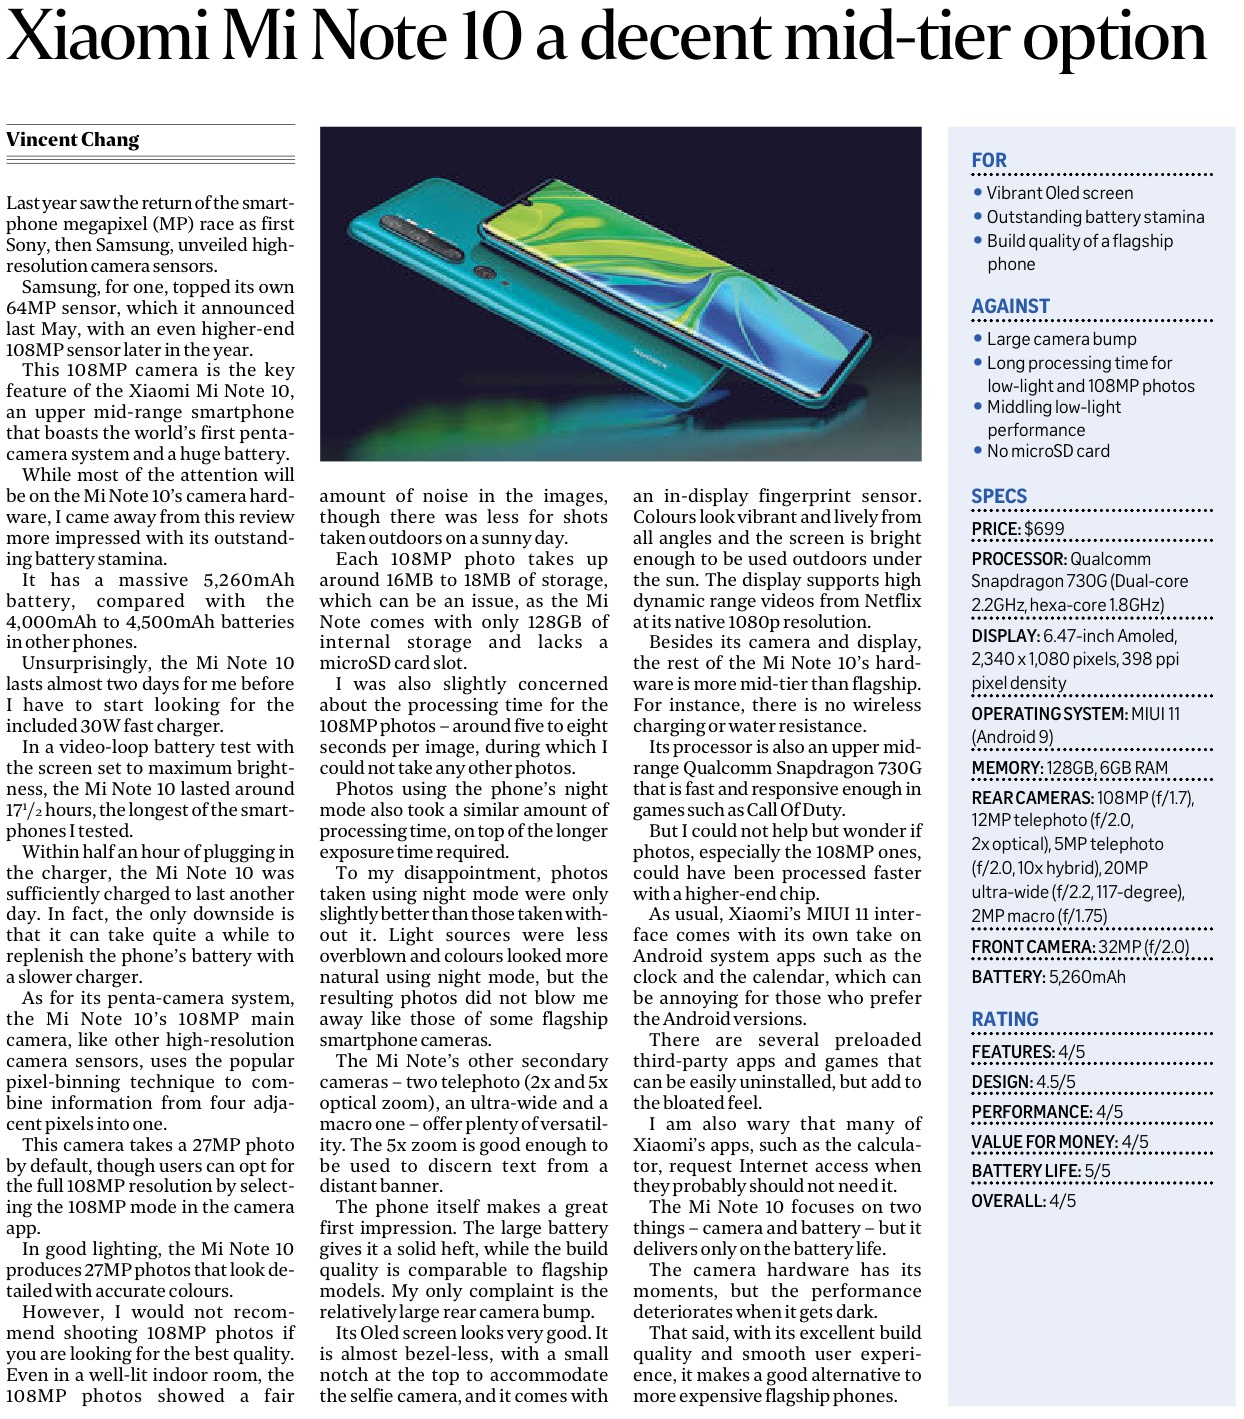Byline: (2, 125, 145, 156)
Headline: (2, 2, 1217, 83)
Image: (325, 125, 922, 460)
Text: (2, 189, 303, 1417), (960, 144, 1227, 1231), (310, 485, 619, 1414), (627, 483, 929, 1415)
